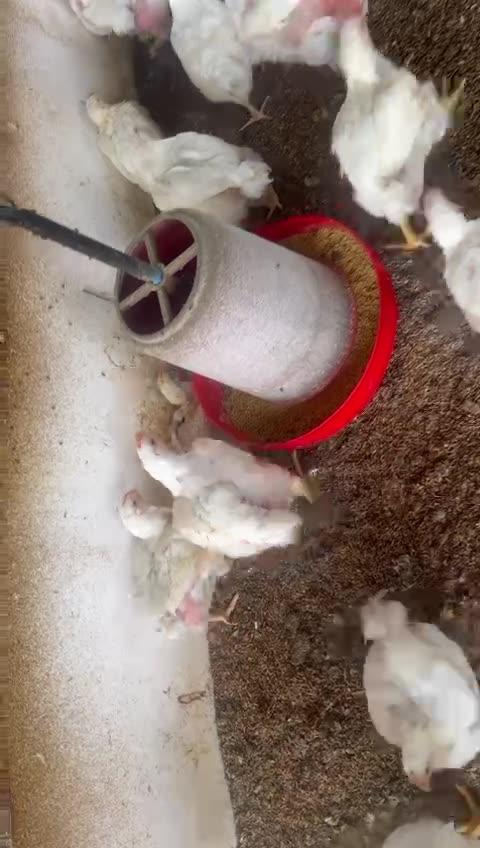AbNormal: (362, 590, 480, 790), (152, 369, 216, 448), (85, 92, 160, 149)
Normal: (320, 15, 457, 241), (134, 425, 309, 554), (122, 489, 242, 636), (129, 125, 273, 215), (160, 0, 270, 115), (422, 177, 480, 340), (242, 0, 379, 68), (380, 809, 480, 848), (67, 0, 172, 37)
